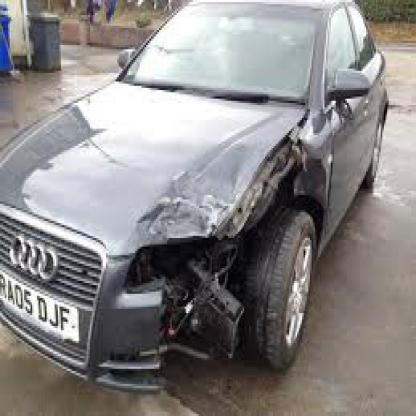dent: (256, 130, 311, 199), (142, 188, 240, 226)
